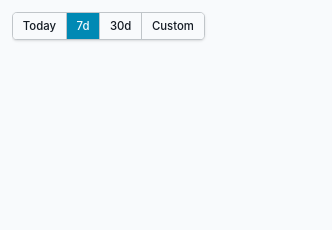
Test case: <DateRangeFilter> › clicking Custom opens the popover (does not write URL yet)
The width and height of the screenshot is (332, 230).
Click the button with test id "date-range-preset-custom" at (173, 26), box [142,13,204,39]
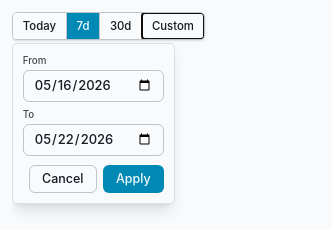
Check: the element with test id "date-range-popover" is shown, box [12,43,174,204]
